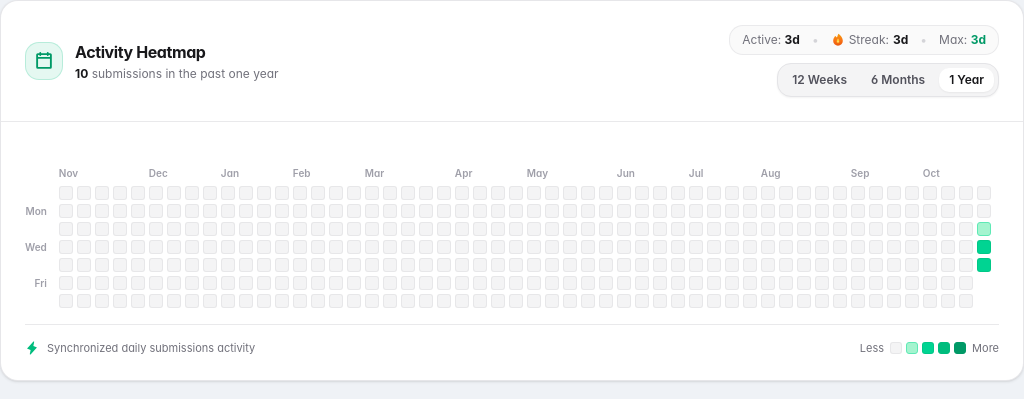
Scenario: ActivityHeatmap › switches time ranges when clicking buttons
Note: Switch to 6 Months
Click the button "6 Months".
click(898, 80)  # box [861, 68, 935, 92]
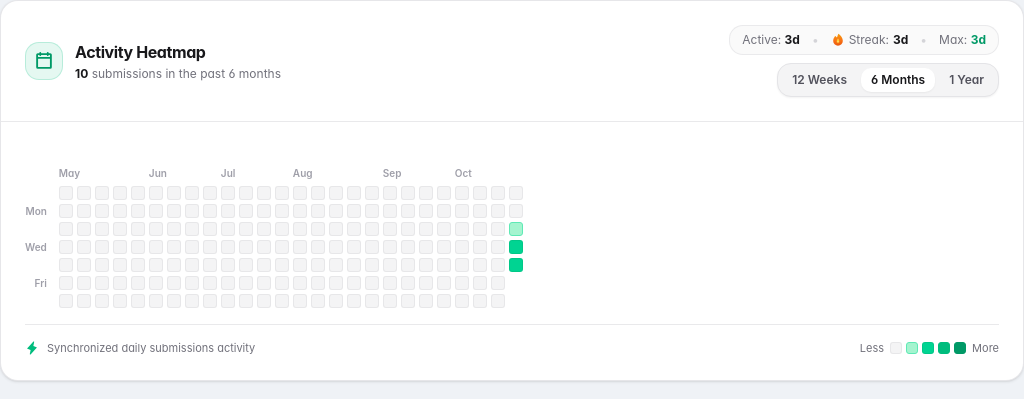
Check: the text "Activity Heatmap" is shown, box [75, 42, 206, 62]
Check: the text "10 submissions in the past 6 months" is shown, box [75, 66, 281, 82]
Note: Switch to 12 Weeks
Click the button "12 Weeks".
click(820, 80)  # box [782, 68, 857, 92]
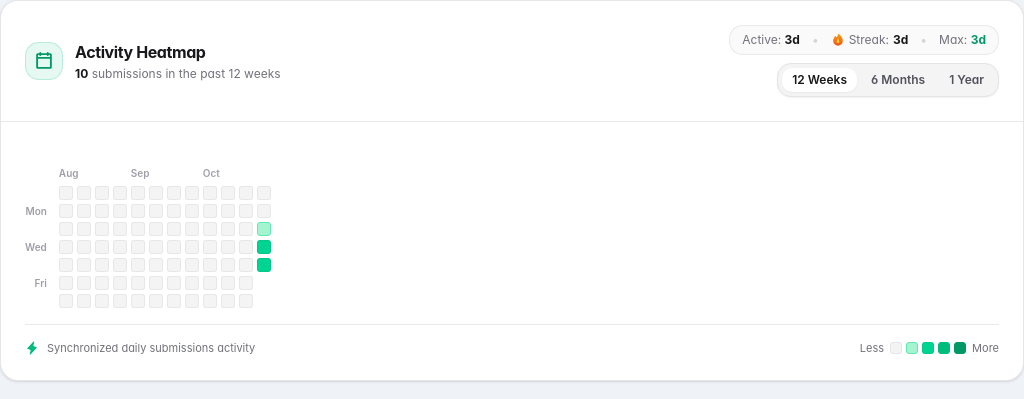
Check: the text "Activity Heatmap" is shown, box [75, 42, 206, 62]
Check: the text "10 submissions in the past 12 weeks" is shown, box [75, 66, 281, 82]
Note: Switch back to 1 Year
Click the button "1 Year".
click(967, 80)  # box [939, 68, 994, 92]
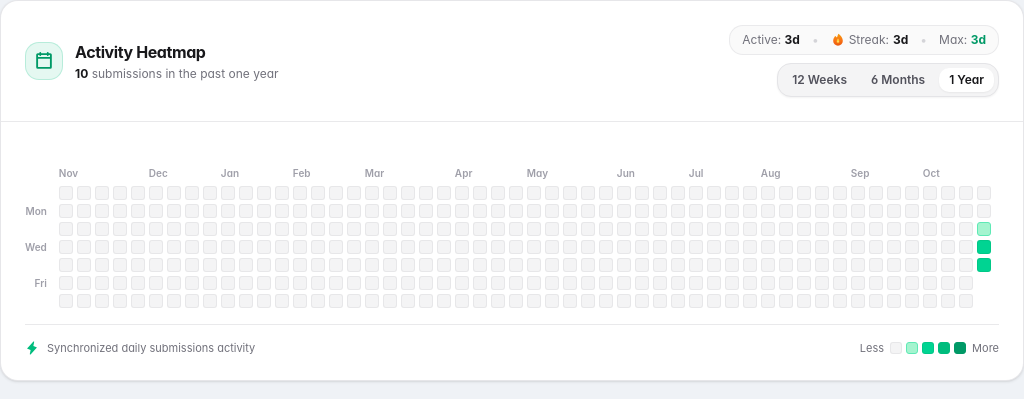
Check: the text "10 submissions in the past one year" is shown, box [75, 66, 278, 82]
